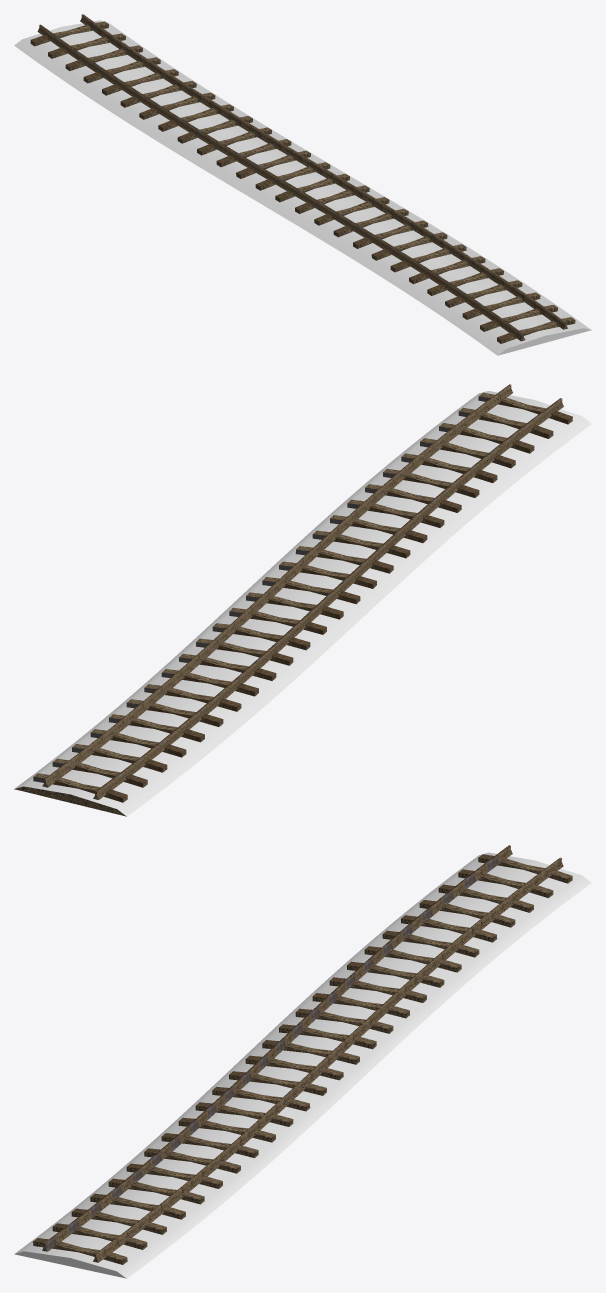
The model's file is Rail bend to left slim_LOD1.fbx.
The picture shows the model from 3 angles, top to bottom: view 1: azimuth 30°, elevation 25°; view 2: azimuth 150°, elevation 25°; view 3: azimuth 330°, elevation 25°; orthographic projection. The views are drawn at different scales.
Visible parts, largest first — view 1: Rail_bend_to_left_slim_LOD1; view 2: Rail_bend_to_left_slim_LOD1; view 3: Rail_bend_to_left_slim_LOD1.
Boxes of the visible parts, box(x1,y1,x2,y2) form: Rail_bend_to_left_slim_LOD1: box(14, 14, 591, 355); Rail_bend_to_left_slim_LOD1: box(14, 384, 591, 816); Rail_bend_to_left_slim_LOD1: box(14, 845, 591, 1278).
Bounding box in the file's own units: 1.5 × 0.1736 × 8.
